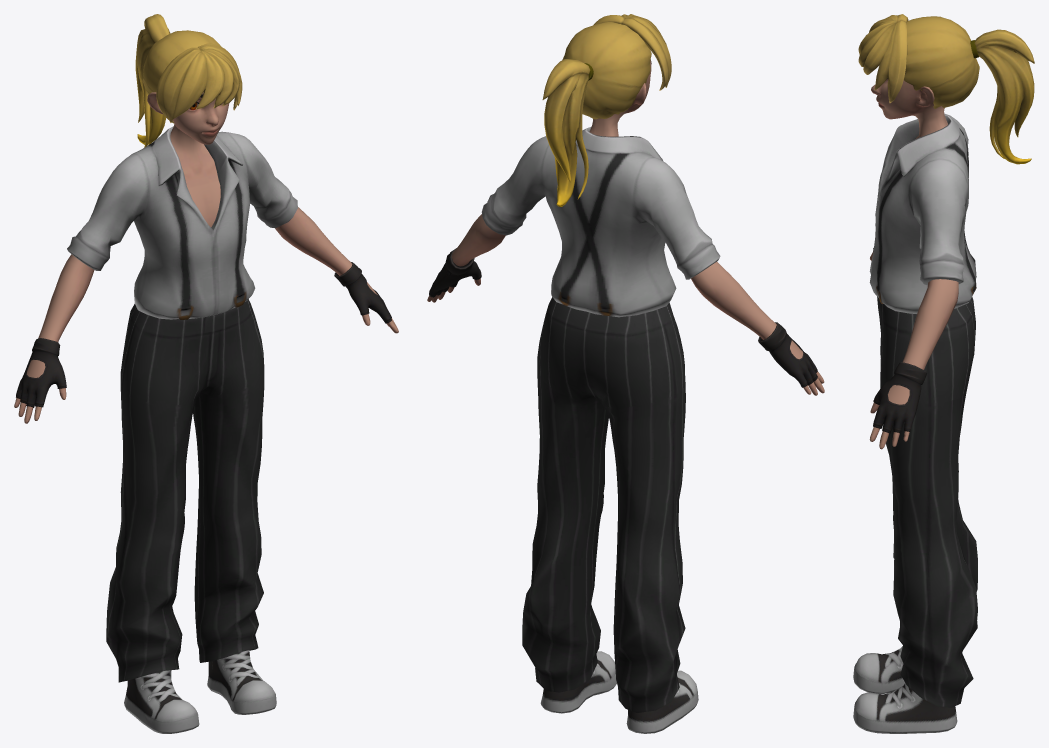
The model's file is StaffCountryGirl_Mesh.obj.
3 views of the same model, side by side, from view 1: azimuth 30°, elevation 25°; view 2: azimuth 150°, elevation 25°; view 3: azimuth 270°, elevation 25° (orthographic). The views are drawn at different scales.
Visible parts, largest first — view 1: StaffCountryGirl_Mesh_0; view 2: StaffCountryGirl_Mesh_0; view 3: StaffCountryGirl_Mesh_0.
Part boxes in pixels (x1,y1,x2,y2): StaffCountryGirl_Mesh_0: [14, 14, 398, 733]; StaffCountryGirl_Mesh_0: [427, 14, 824, 733]; StaffCountryGirl_Mesh_0: [853, 14, 1034, 733].
Size of the model in its own units: 1.06 by 1.8 by 0.4312.
Materials: 1 (1 with a texture image).
